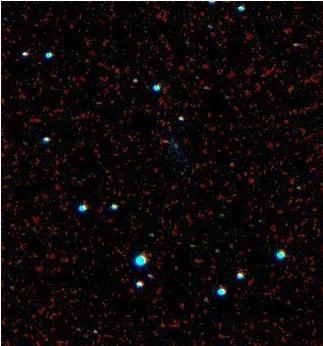star: (218, 153, 248, 183)
